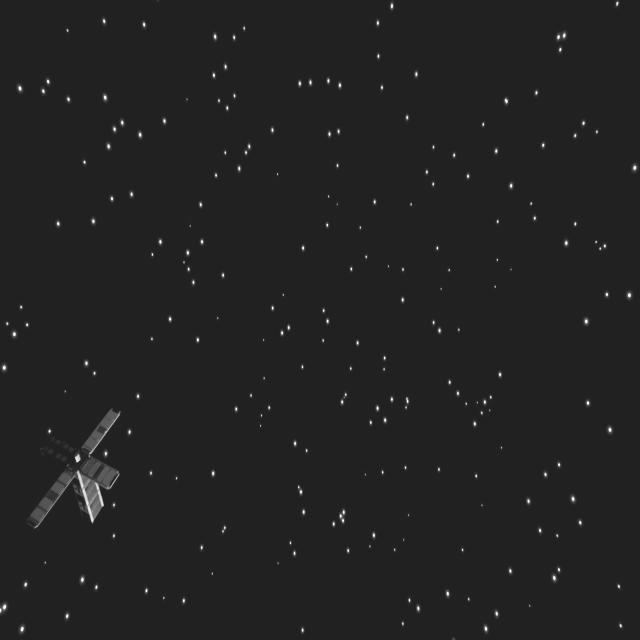medium_debris: (19, 407, 133, 529)
